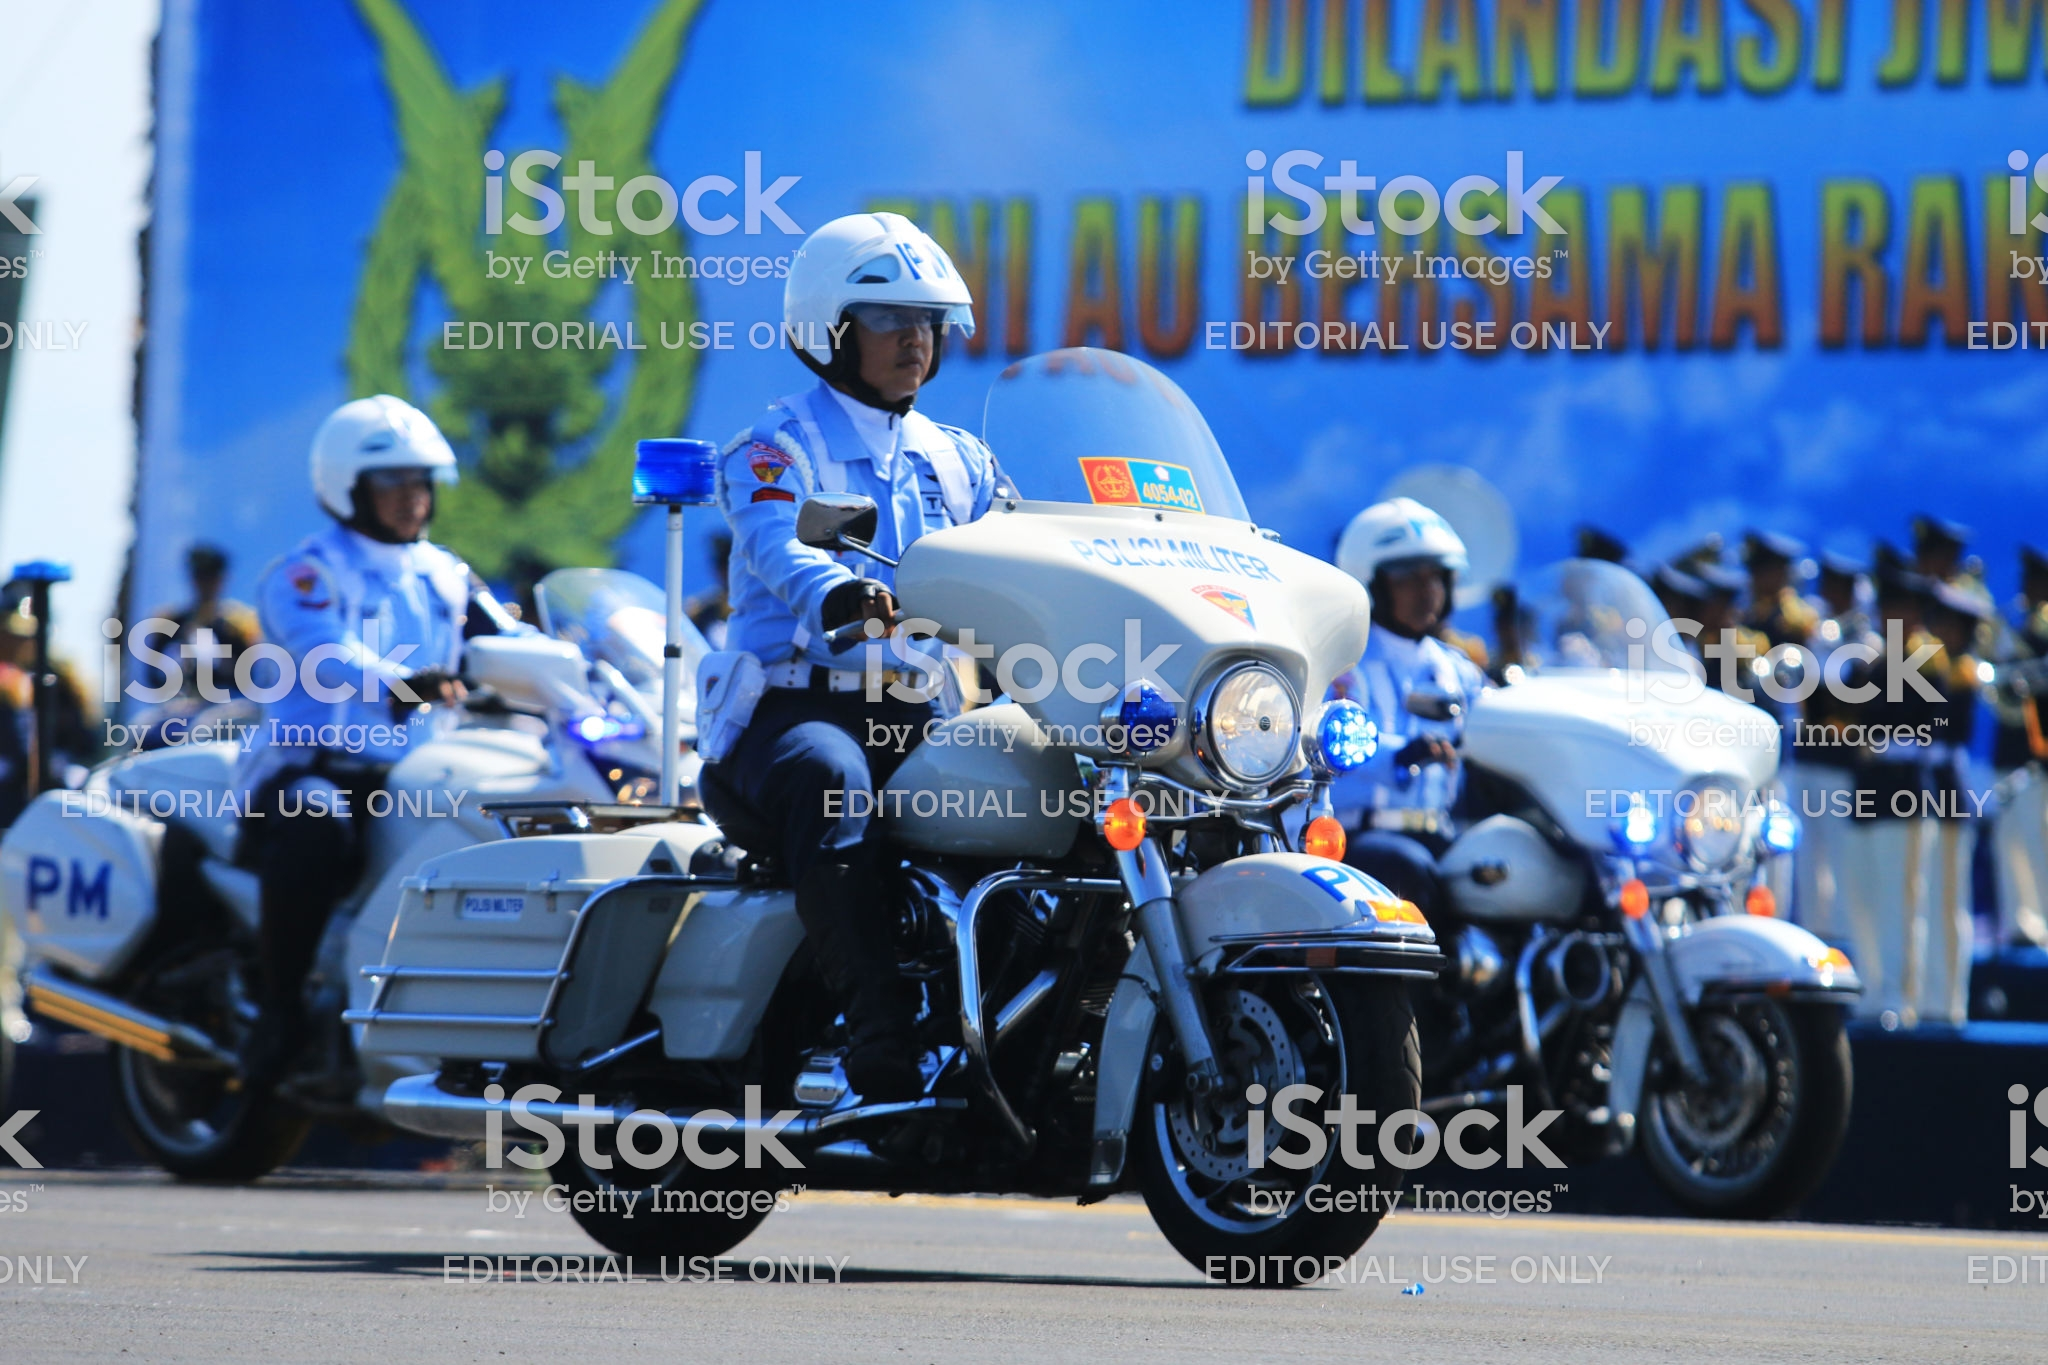helmet: (780, 222, 973, 367), (282, 373, 469, 513), (1326, 492, 1447, 577)
